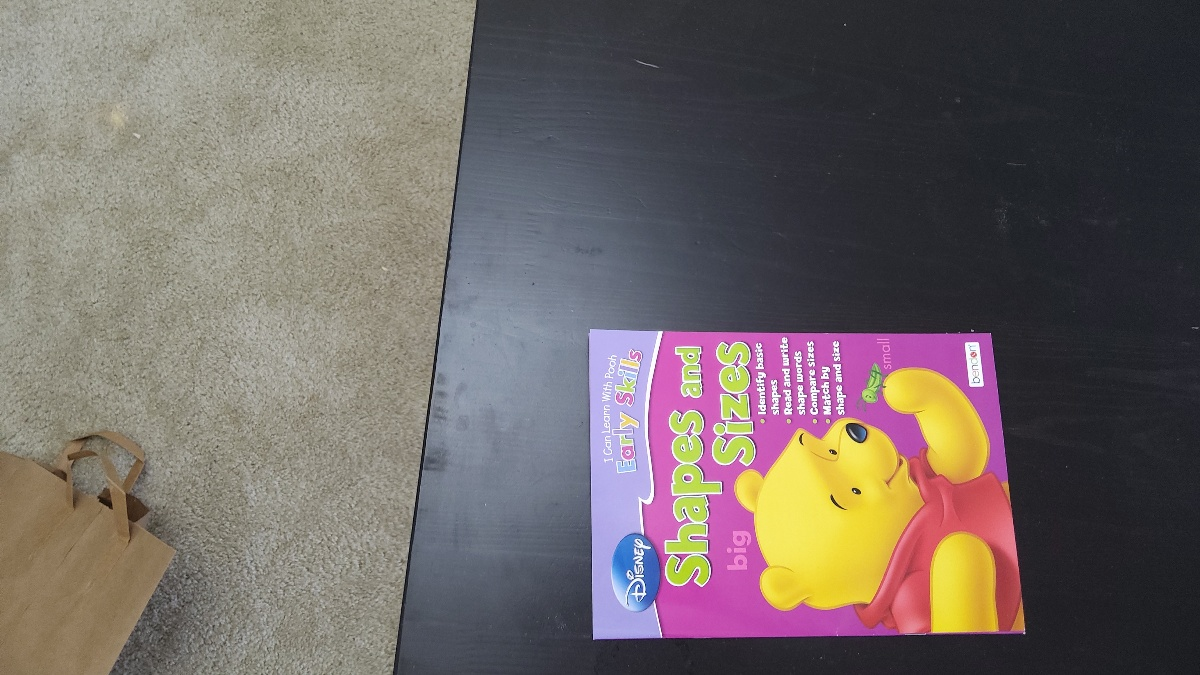book: (592, 328, 1017, 635)
